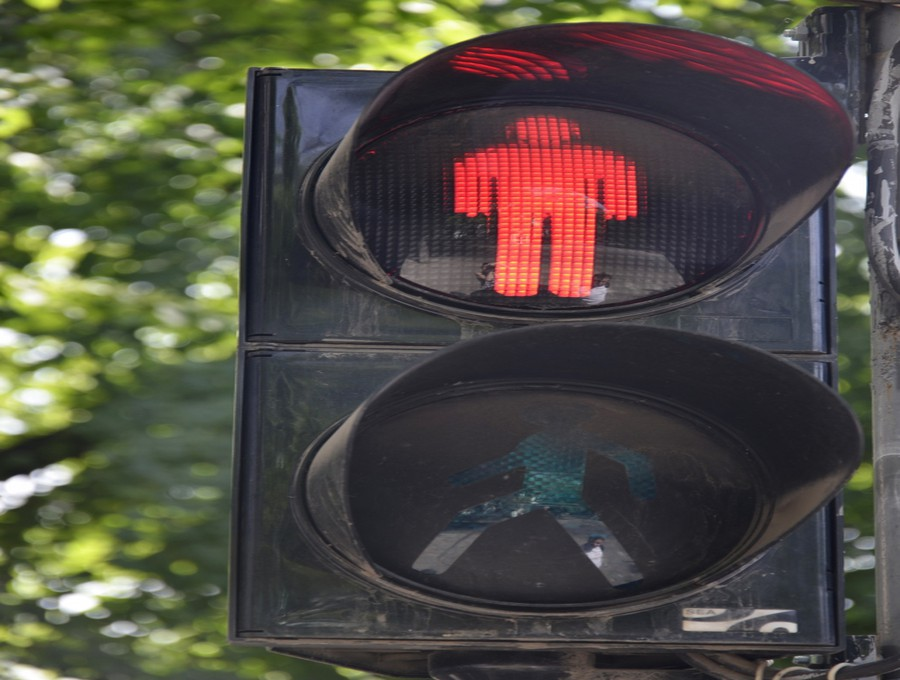Traffic Light-red: (263, 68, 839, 635)
